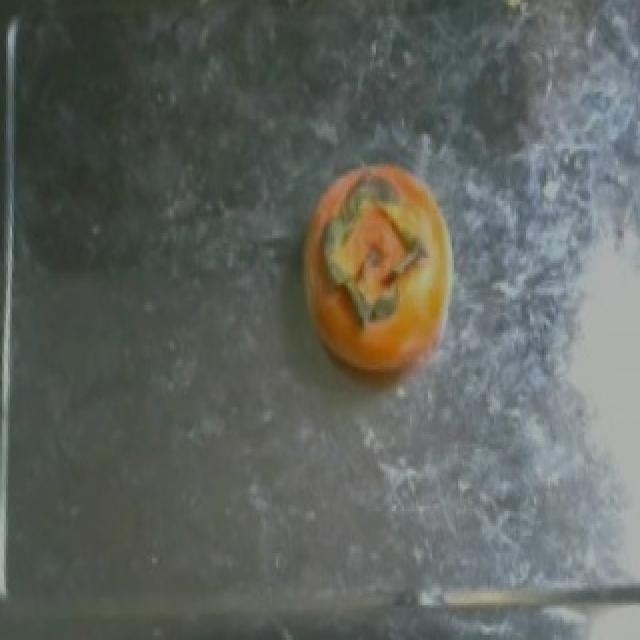Fruit: (278, 146, 476, 417)
